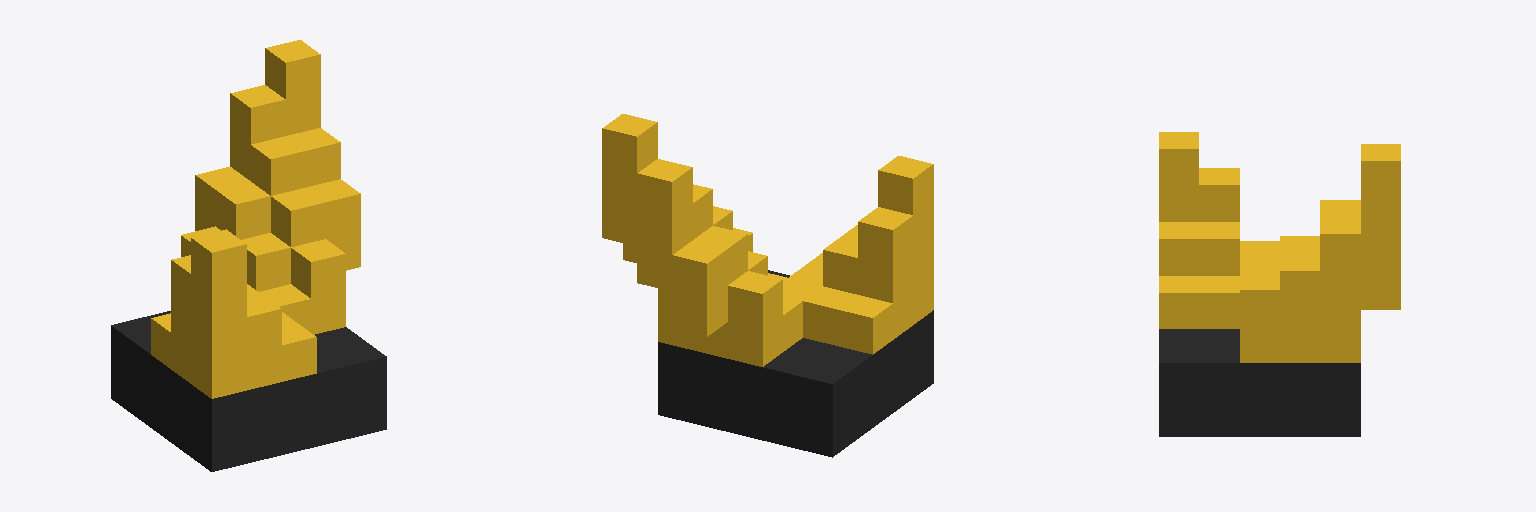
3 views of the same model, side by side, from view 1: azimuth 30°, elevation 25°; view 2: azimuth 150°, elevation 25°; view 3: azimuth 270°, elevation 25° (orthographic).
Parts seen in each view (by area): view 1: Untitled; view 2: Untitled; view 3: Untitled.
Boxes of the visible parts, x1,y1,x2,y2 form: Untitled: [111, 40, 386, 471]; Untitled: [602, 114, 933, 457]; Untitled: [1159, 132, 1400, 436].
Size of the model in its own units: 0.6 by 0.8 by 0.6.
1 materials, 1 textured.